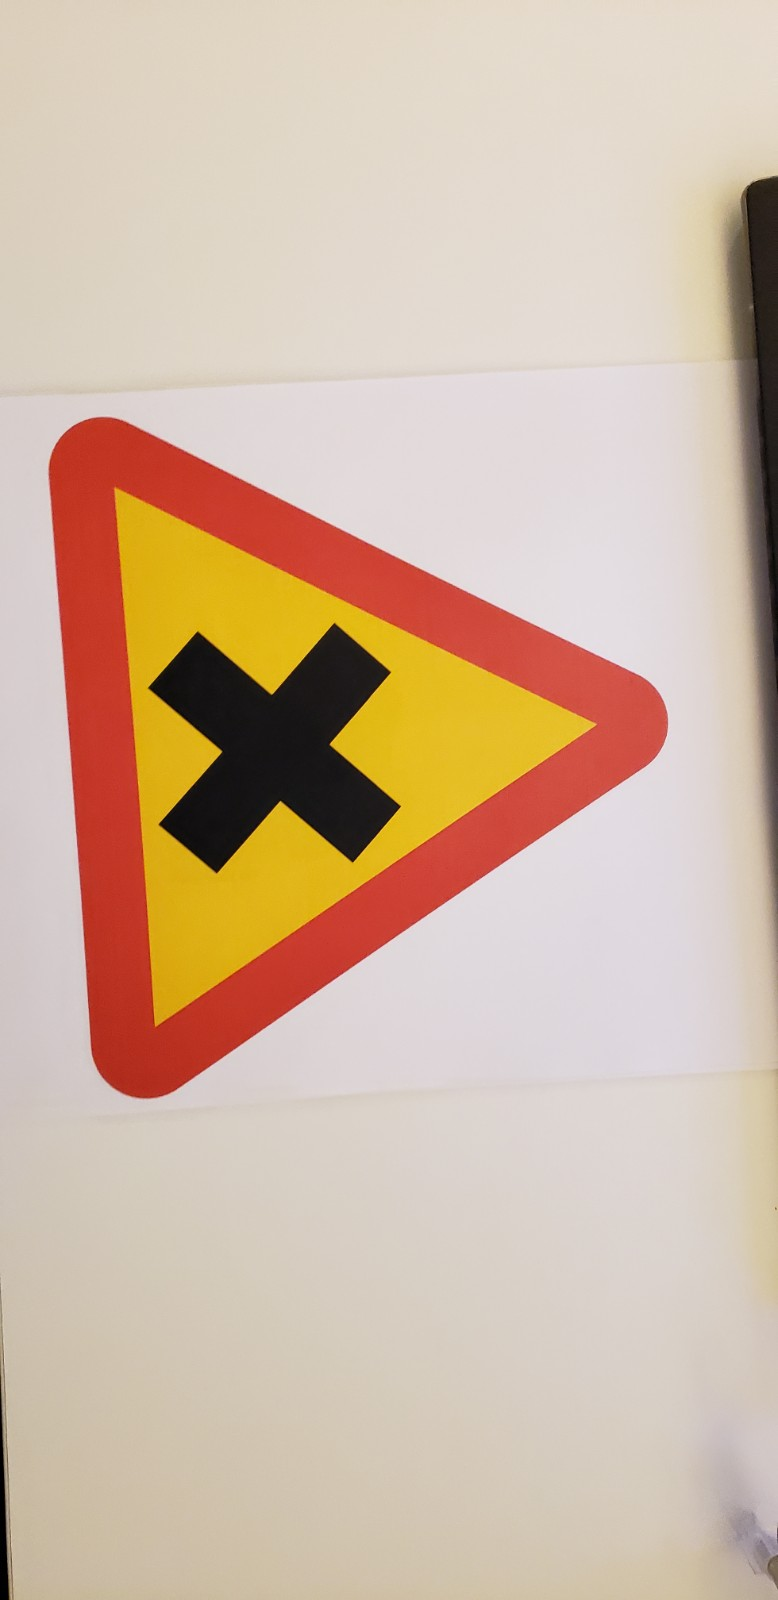junction: (35, 399, 746, 1151)
